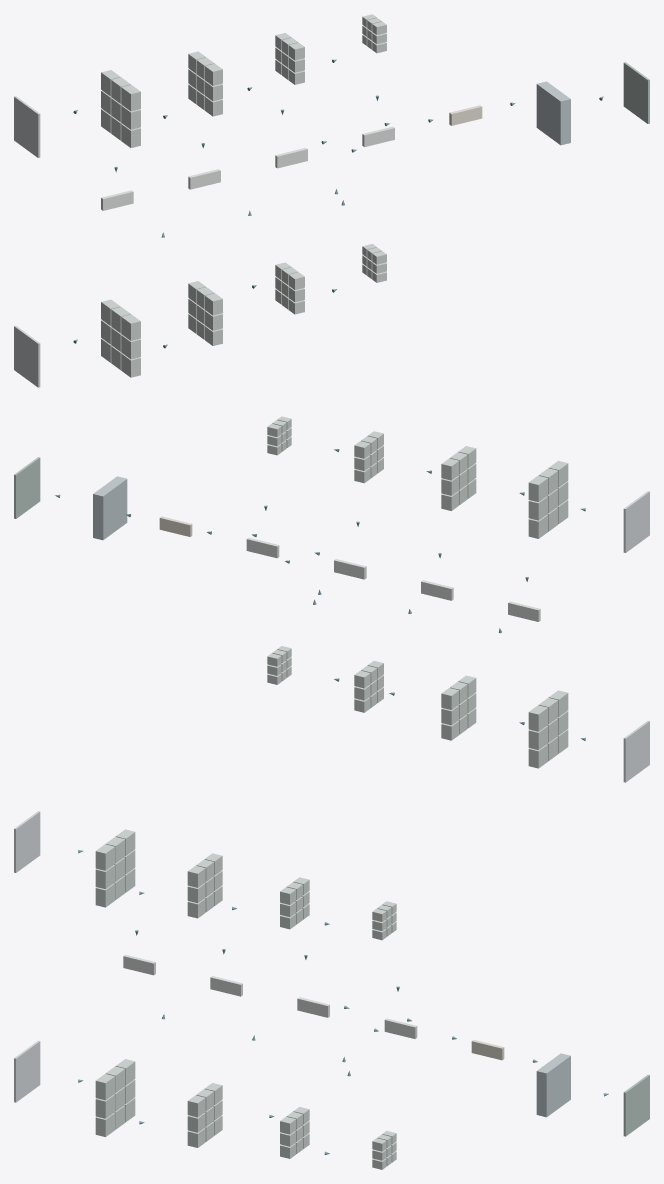
The model's file is changeformer.glb.
The picture shows the model from 3 angles, top to bottom: view 1: azimuth 30°, elevation 25°; view 2: azimuth 150°, elevation 25°; view 3: azimuth 330°, elevation 25°; orthographic projection.
Visible parts, largest first — view 1: Lightweight · decoder, Image t2, Change map, Image t1; view 2: Lightweight · decoder, Image t2, Change map, Image t1; view 3: Lightweight · decoder, Change map, Image t2, Image t1.
Boxes of the visible parts, x1=… form: Lightweight · decoder: x1=536, y1=81, x2=570, y2=145; Image t2: x1=14, y1=325, x2=40, y2=387; Change map: x1=623, y1=62, x2=649, y2=123; Image t1: x1=14, y1=96, x2=40, y2=157; Lightweight · decoder: x1=93, y1=476, x2=127, y2=540; Image t2: x1=623, y1=720, x2=649, y2=782; Change map: x1=14, y1=457, x2=40, y2=518; Image t1: x1=623, y1=491, x2=649, y2=552; Lightweight · decoder: x1=536, y1=1053, x2=570, y2=1117; Change map: x1=623, y1=1074, x2=649, y2=1136; Image t2: x1=14, y1=1040, x2=40, y2=1102; Image t1: x1=14, y1=811, x2=40, y2=872.
Size of the model in its own units: 37.93 by 16.8 by 3.26.
